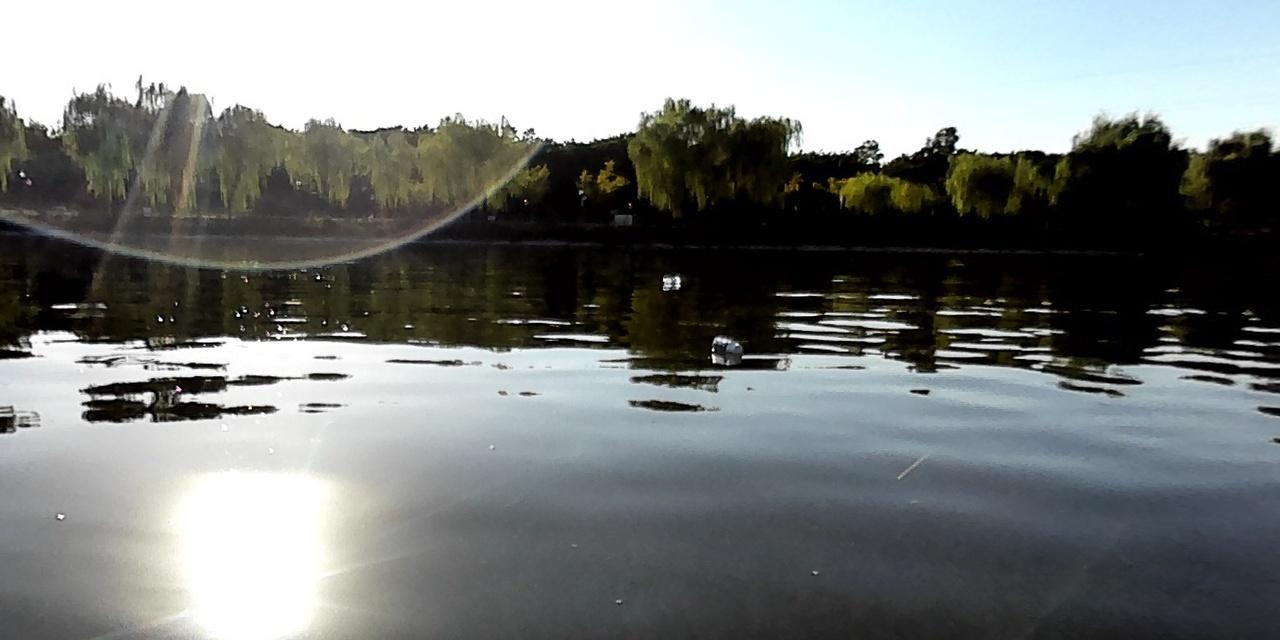bottle: (706, 332, 747, 357), (655, 273, 683, 287)
